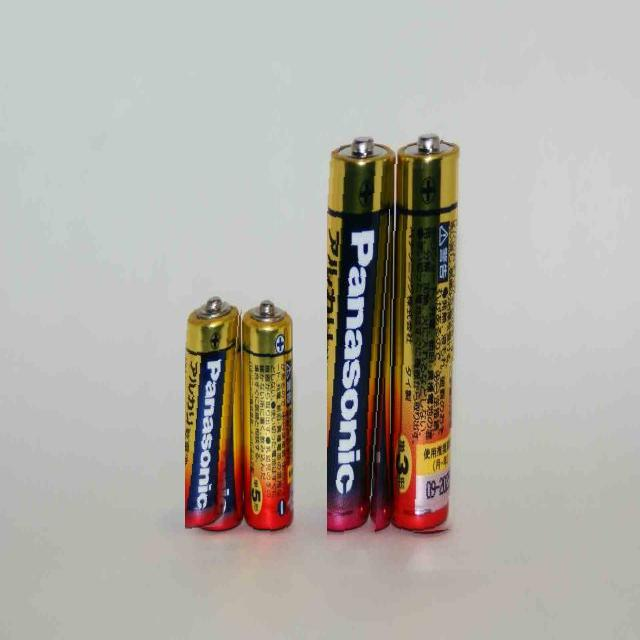battery: (390, 130, 466, 535), (328, 135, 400, 552), (185, 292, 244, 532), (244, 294, 298, 540)
